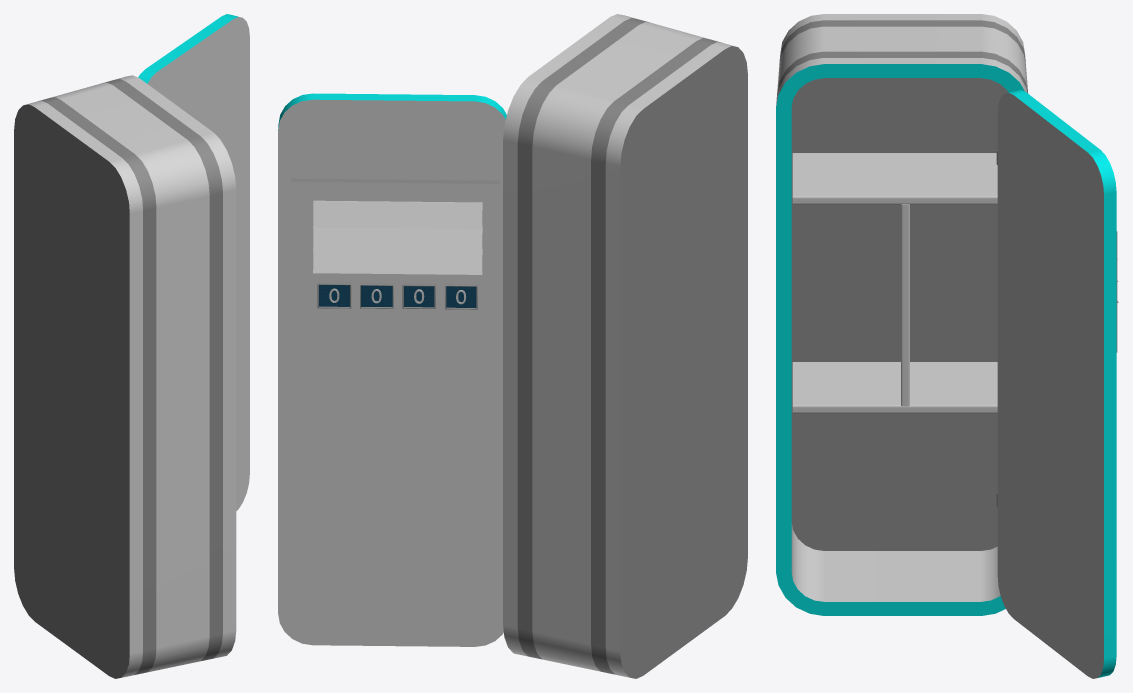
File: lockerAnimation (1).fbx
3 renders of one model, left to right at view 1: azimuth 30°, elevation 25°; view 2: azimuth 150°, elevation 25°; view 3: azimuth 270°, elevation 25°, orthographic. The views are drawn at different scales.
Visible parts, largest first — view 1: locker_base, door1; view 2: locker_base, door1; view 3: locker_base, door1, locker_shelf2, locker_shelf1, locker_shelf3.
Part boxes in pixels (bbox=[...]): locker_base: bbox=[14, 75, 236, 678]; door1: bbox=[138, 14, 249, 510]; locker_base: bbox=[503, 14, 747, 678]; door1: bbox=[278, 93, 506, 646]; locker_base: bbox=[776, 14, 1028, 615]; door1: bbox=[996, 90, 1118, 678]; locker_shelf2: bbox=[792, 153, 997, 204]; locker_shelf1: bbox=[792, 362, 997, 413]; locker_shelf3: bbox=[901, 204, 909, 406].
Size of the model in its own units: 1.13 by 2.07 by 1.16.
Materials: 6 (1 with a texture image).
